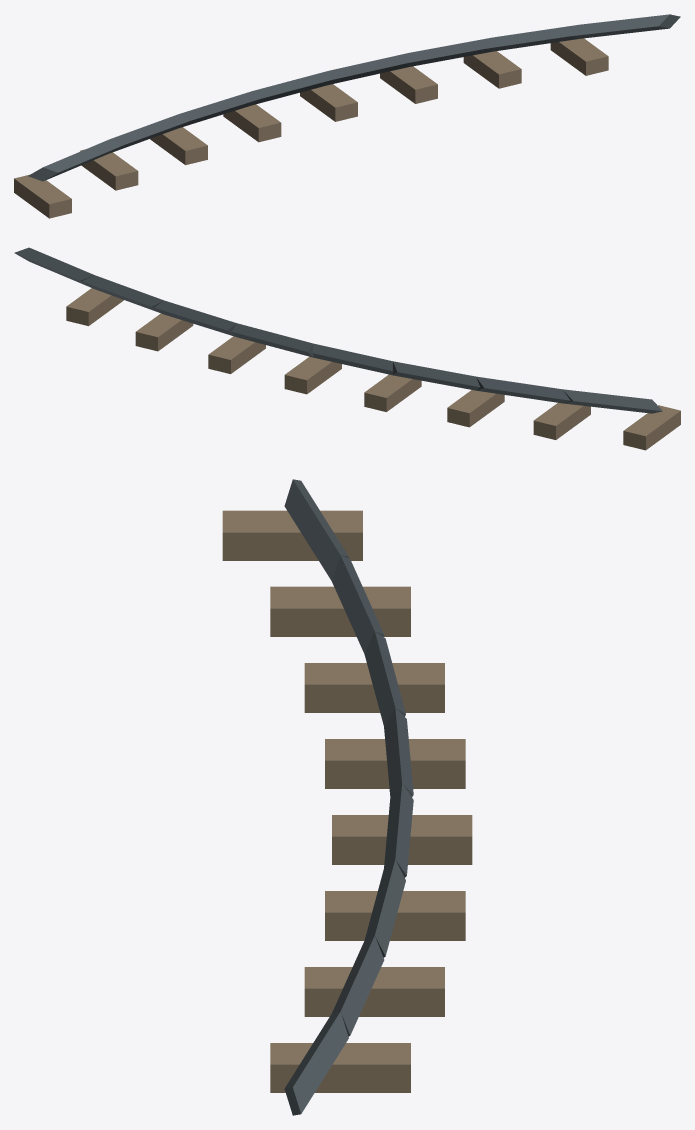
Rendered from turntable_rim.glb.
3 renders of one model, top to bottom at view 1: azimuth 30°, elevation 25°; view 2: azimuth 150°, elevation 25°; view 3: azimuth 270°, elevation 25°, orthographic. The views are drawn at different scales.
Parts seen in each view (by area): view 1: turntable_rim; view 2: turntable_rim; view 3: turntable_rim.
Boxes of the visible parts, left/top/right/bottom form: turntable_rim: left=14, top=14, right=680, bottom=218; turntable_rim: left=14, top=247, right=680, bottom=450; turntable_rim: left=222, top=479, right=472, bottom=1115.
Bounding box in the file's own units: 5.76 × 0.3 × 0.96.
